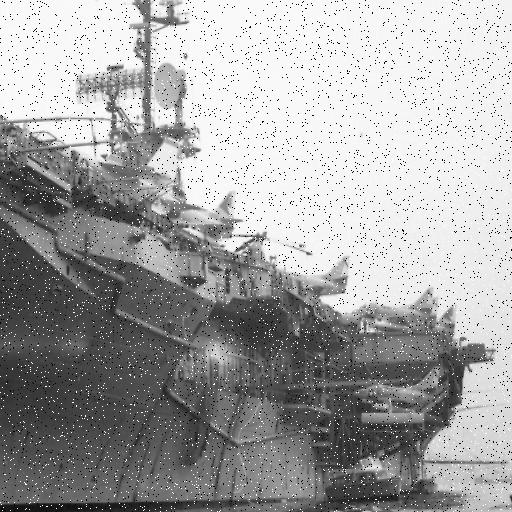Portanaves: (1, 1, 484, 500)
